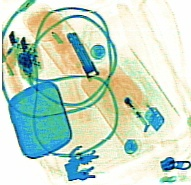lighter: (101, 62, 164, 131)
